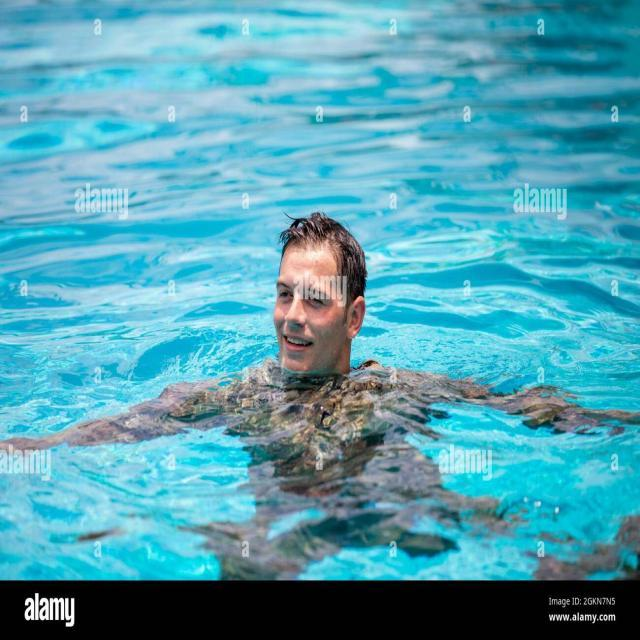Swimming: (256, 214, 382, 394)
